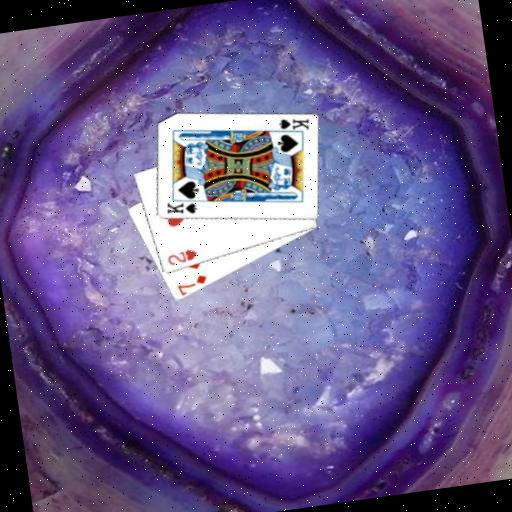2H: (164, 246, 200, 269)
7D: (172, 271, 210, 297)
KS: (271, 112, 311, 139), (162, 196, 199, 219)
